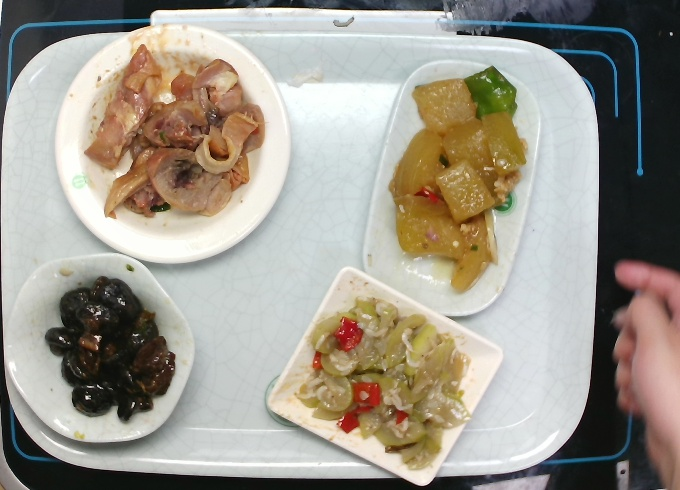WCQzf-Bai_Se_Si_Fang_Die: (264, 263, 506, 488)
WCQzf-Hua_Duo_Wan: (2, 250, 197, 444)
WCQzf-Kuan_Bian_Yuan_Die: (51, 21, 293, 265)
WCQzf-Tuo_Yuan_Pan: (360, 57, 544, 318)
